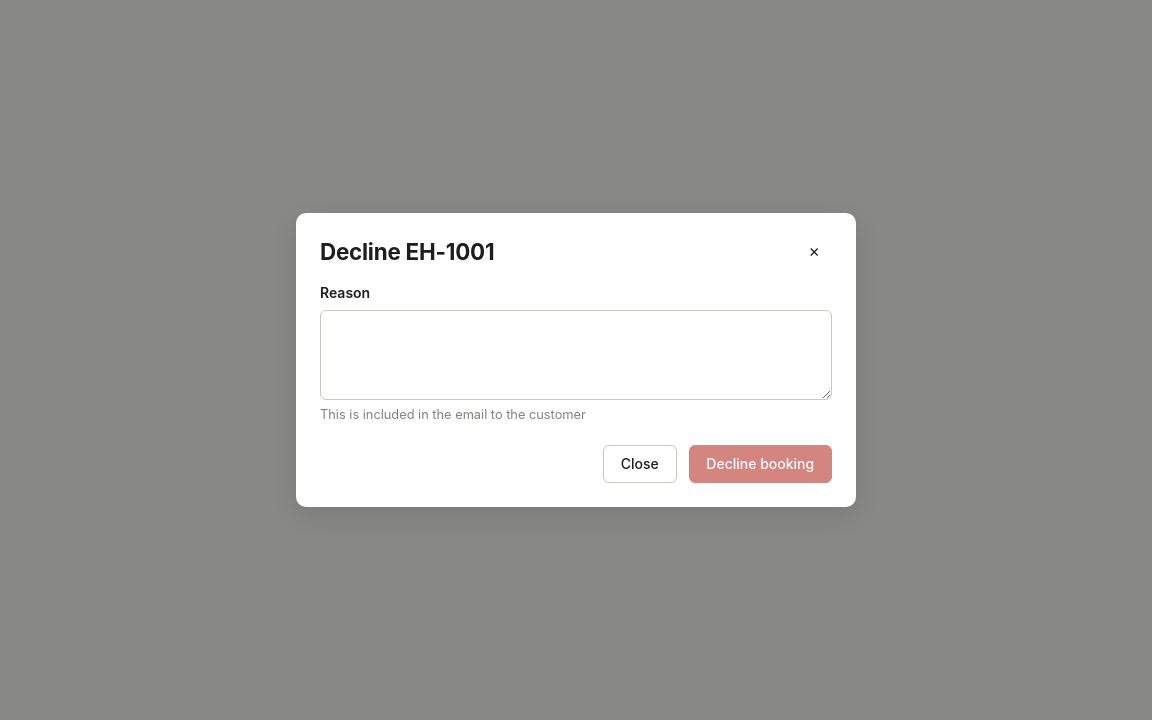
Test: Booking decline › only allows a booking to be declined after a reason is entered
Expected: the dialog "Decline EH-1001" is shown, [296,213,856,507]
Expected: the button "Decline booking" is disabled, [688,445,832,483]
type a reason, then decline
Type "The trailer is booked for servicing" into the text box labelled "Reason" at (576, 355), box [320,310,832,400]
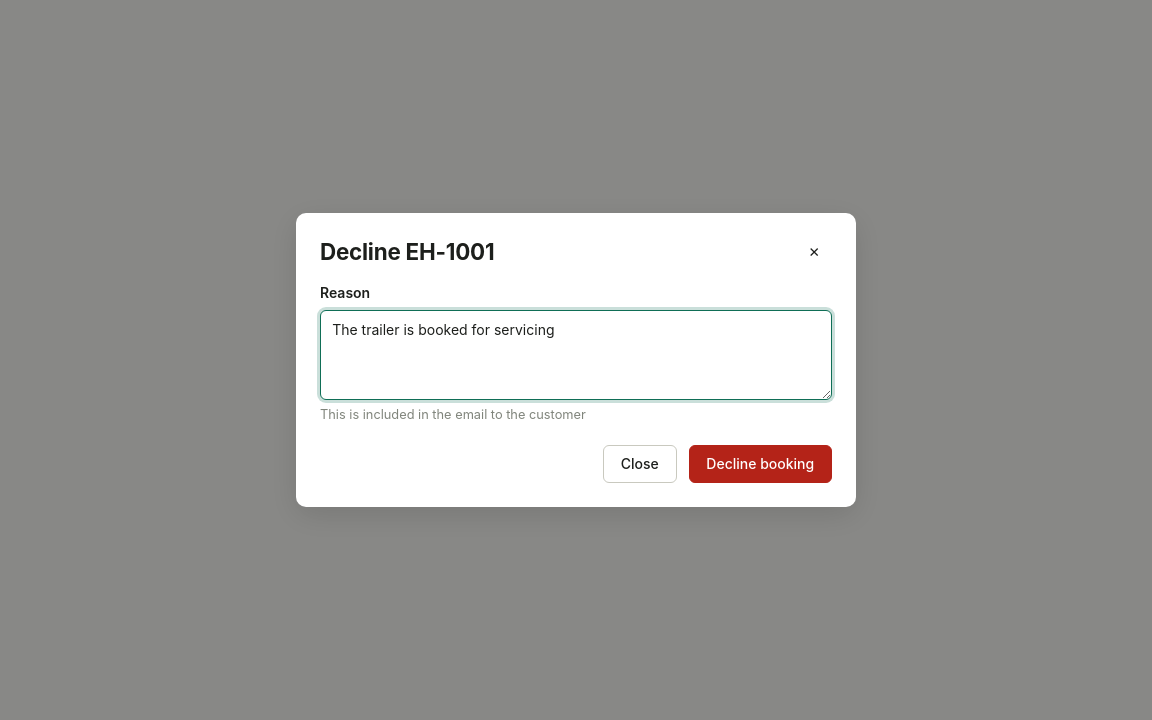
Click the button "Decline booking" at (760, 464), box [688,445,832,483]
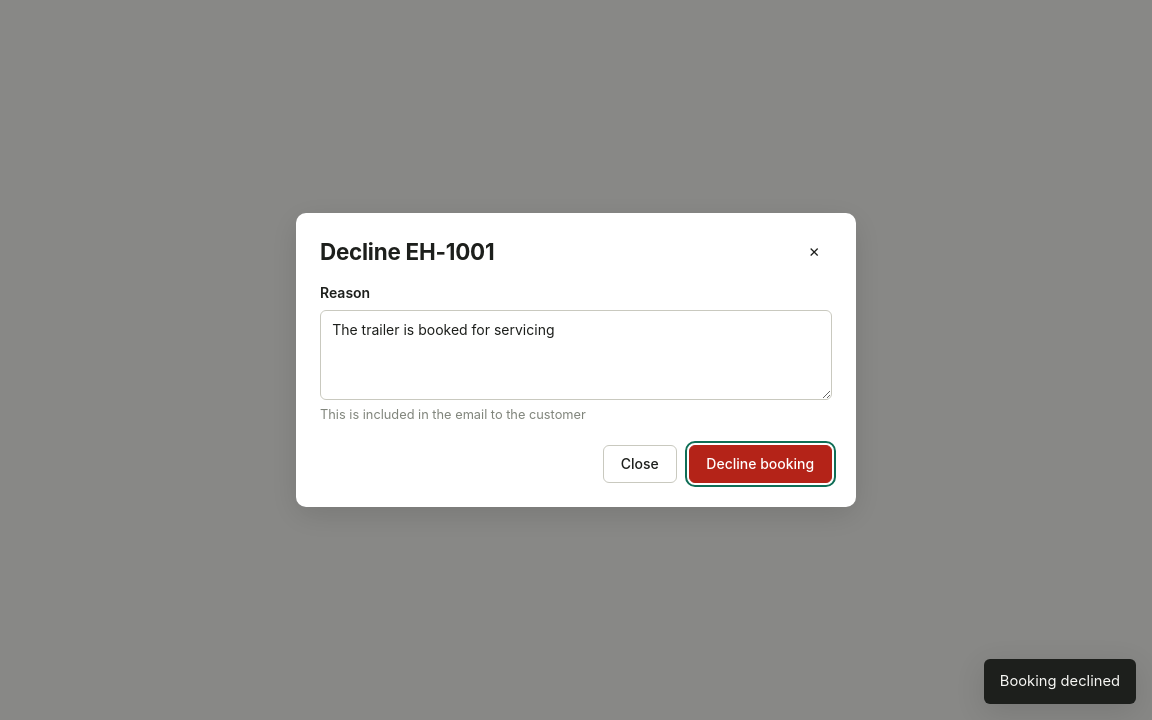
Expected: the text "Booking declined" is shown, [984,659,1136,704]
